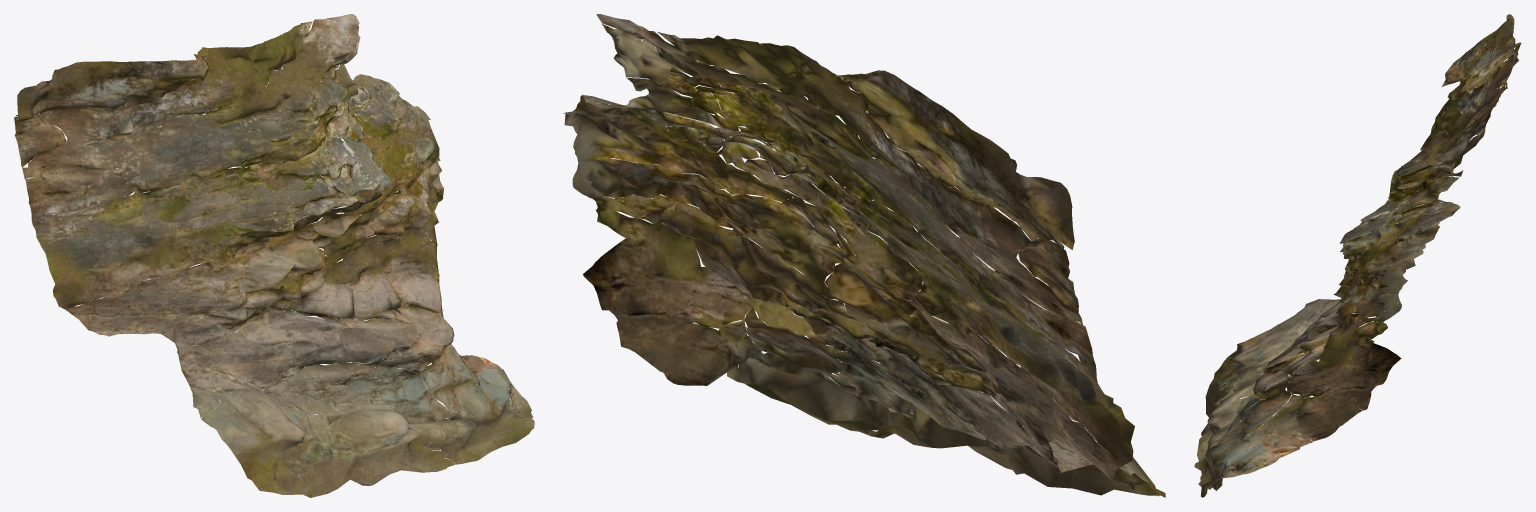
Rendered from rock_face_02.glb.
3 renders of one model, left to right at view 1: azimuth 30°, elevation 25°; view 2: azimuth 150°, elevation 25°; view 3: azimuth 270°, elevation 25°, orthographic. The views are drawn at different scales.
Parts seen in each view (by area): view 1: rock_face_02; view 2: rock_face_02; view 3: rock_face_02.
Part boxes in pixels (x1,y1,x2,y2): rock_face_02: (14, 14, 534, 497); rock_face_02: (563, 14, 1165, 497); rock_face_02: (1194, 14, 1521, 497).
Bounding box in the file's own units: 2.71 × 2.48 × 2.13.
Materials: 1 (1 with a texture image).
